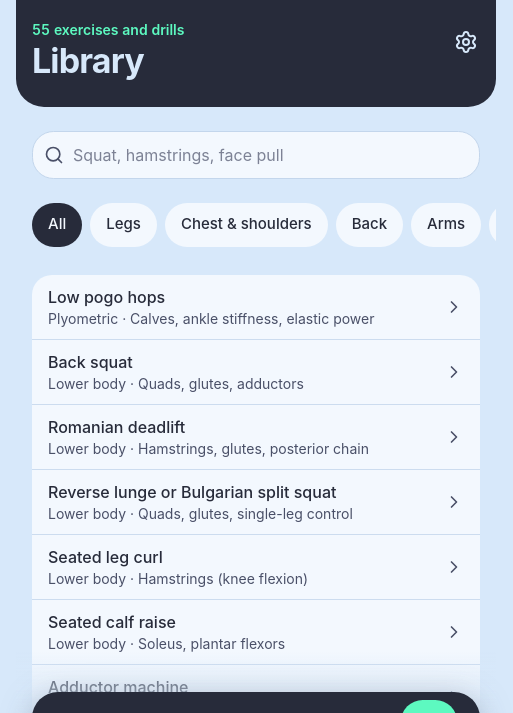
library screens › filters the list and opens an exercise with its details and no image placeholder
The width and height of the screenshot is (513, 713).
Step 1. Type "bench" into the search field named "Search exercises" → (256, 154), box [32,130,480,178]
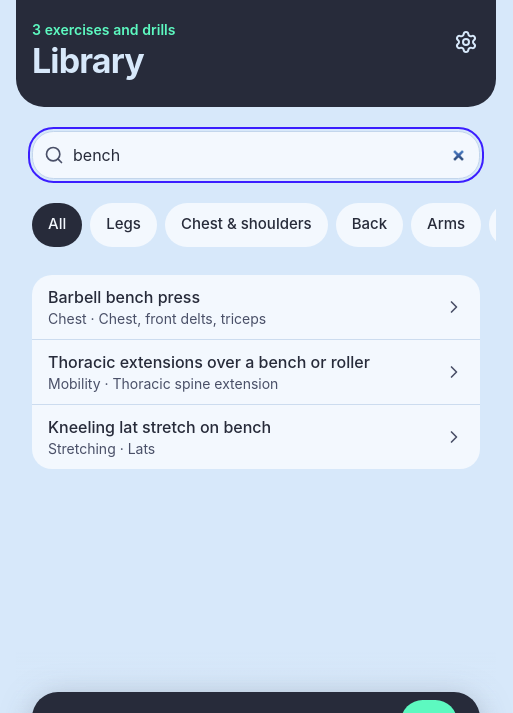
Step 2. Click the button "Barbell bench press Chest · Chest, front delts, triceps" → click(256, 307), box [32,274,480,340]
(page scrolled)
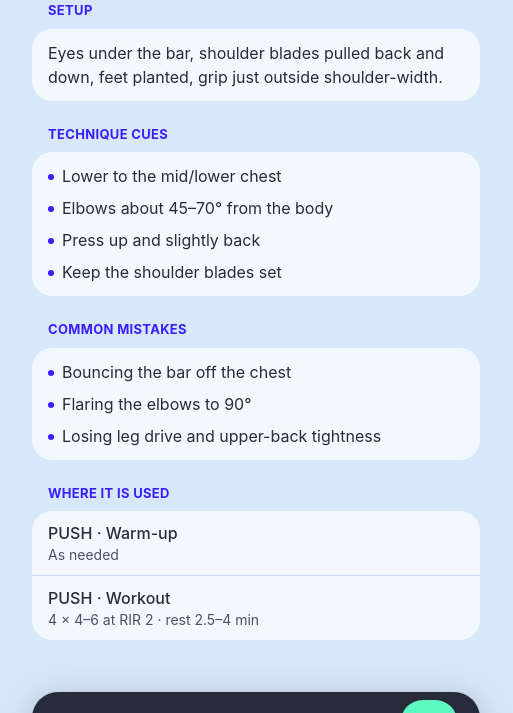
Result: the heading "Technique cues" is shown at [48,126,168,142]
Result: the text "PUSH · Workout" is shown at [48,588,170,608]
